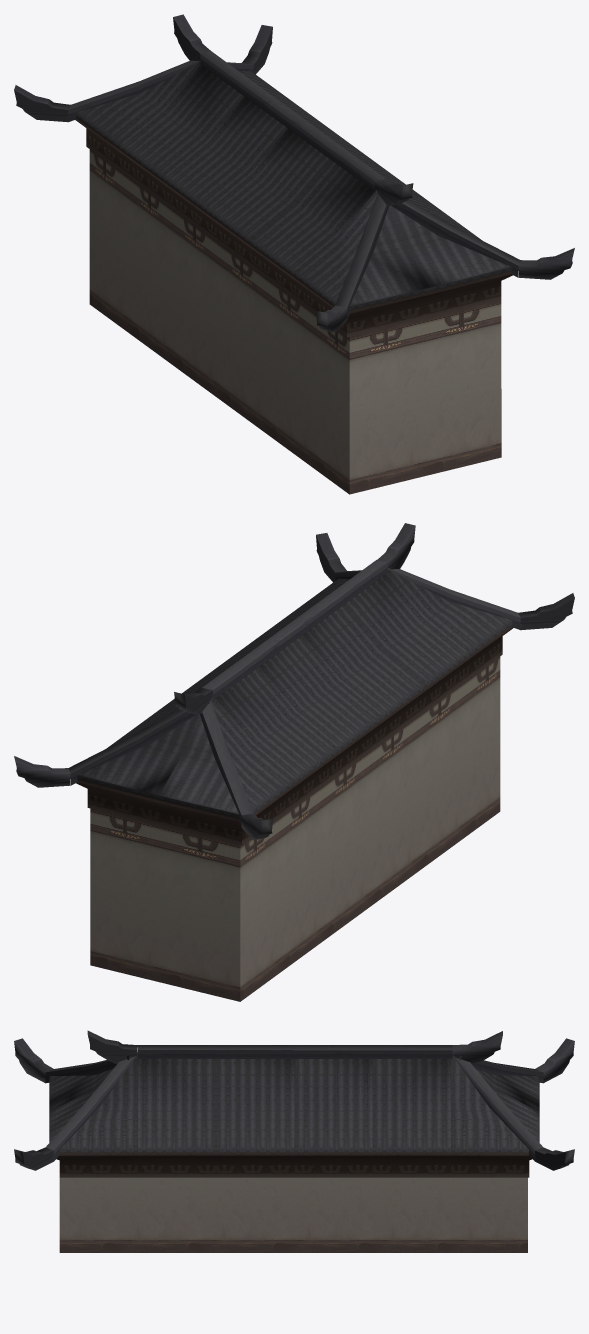
Rendered from City_bujian_19.fbx.
3 views of the same model, one above another, from view 1: azimuth 30°, elevation 25°; view 2: azimuth 150°, elevation 25°; view 3: azimuth 270°, elevation 25° (orthographic). The views are drawn at different scales.
Visible parts, largest first — view 1: polySurface3612; view 2: polySurface3612; view 3: polySurface3612.
Boxes of the visible parts, x1,y1,x2,y2 form: polySurface3612: (14, 14, 574, 494); polySurface3612: (14, 523, 574, 1001); polySurface3612: (14, 1030, 574, 1252).
Size of the model in its own units: 9.09 by 9.41 by 18.93.
